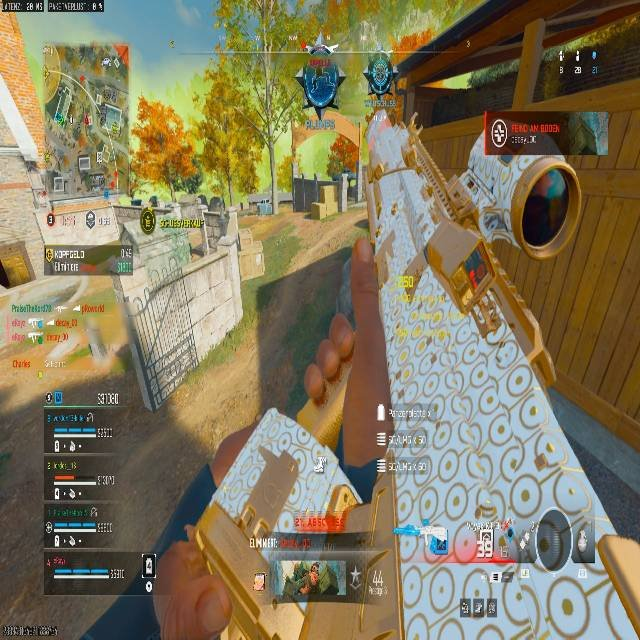player: (297, 56, 343, 116)
